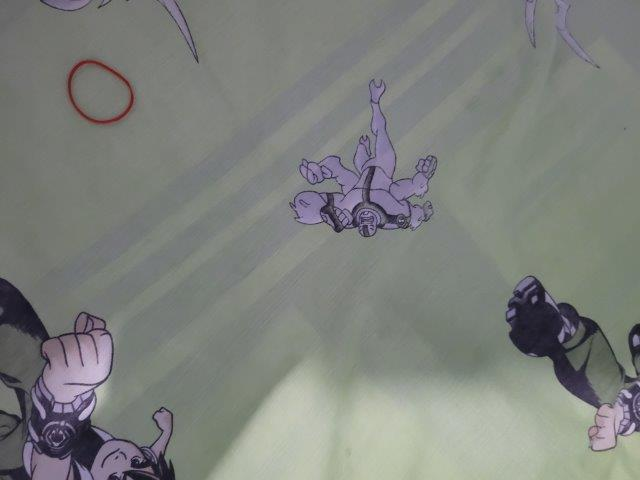karet: (66, 58, 135, 125)
